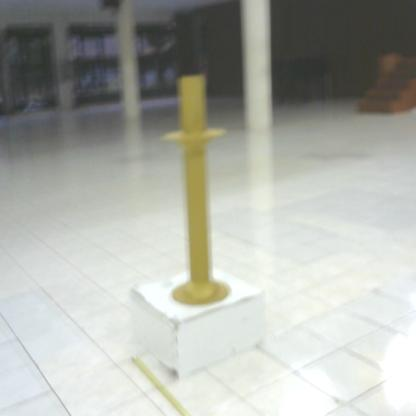pole: (157, 68, 237, 313)
